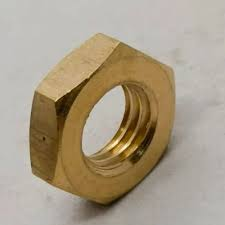No thread: (35, 47, 180, 202)
